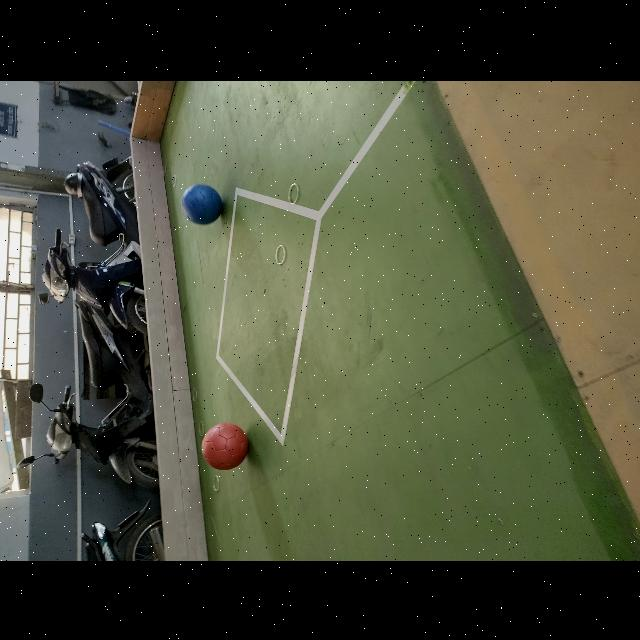B: (182, 183, 222, 223)
R: (202, 422, 248, 470)
